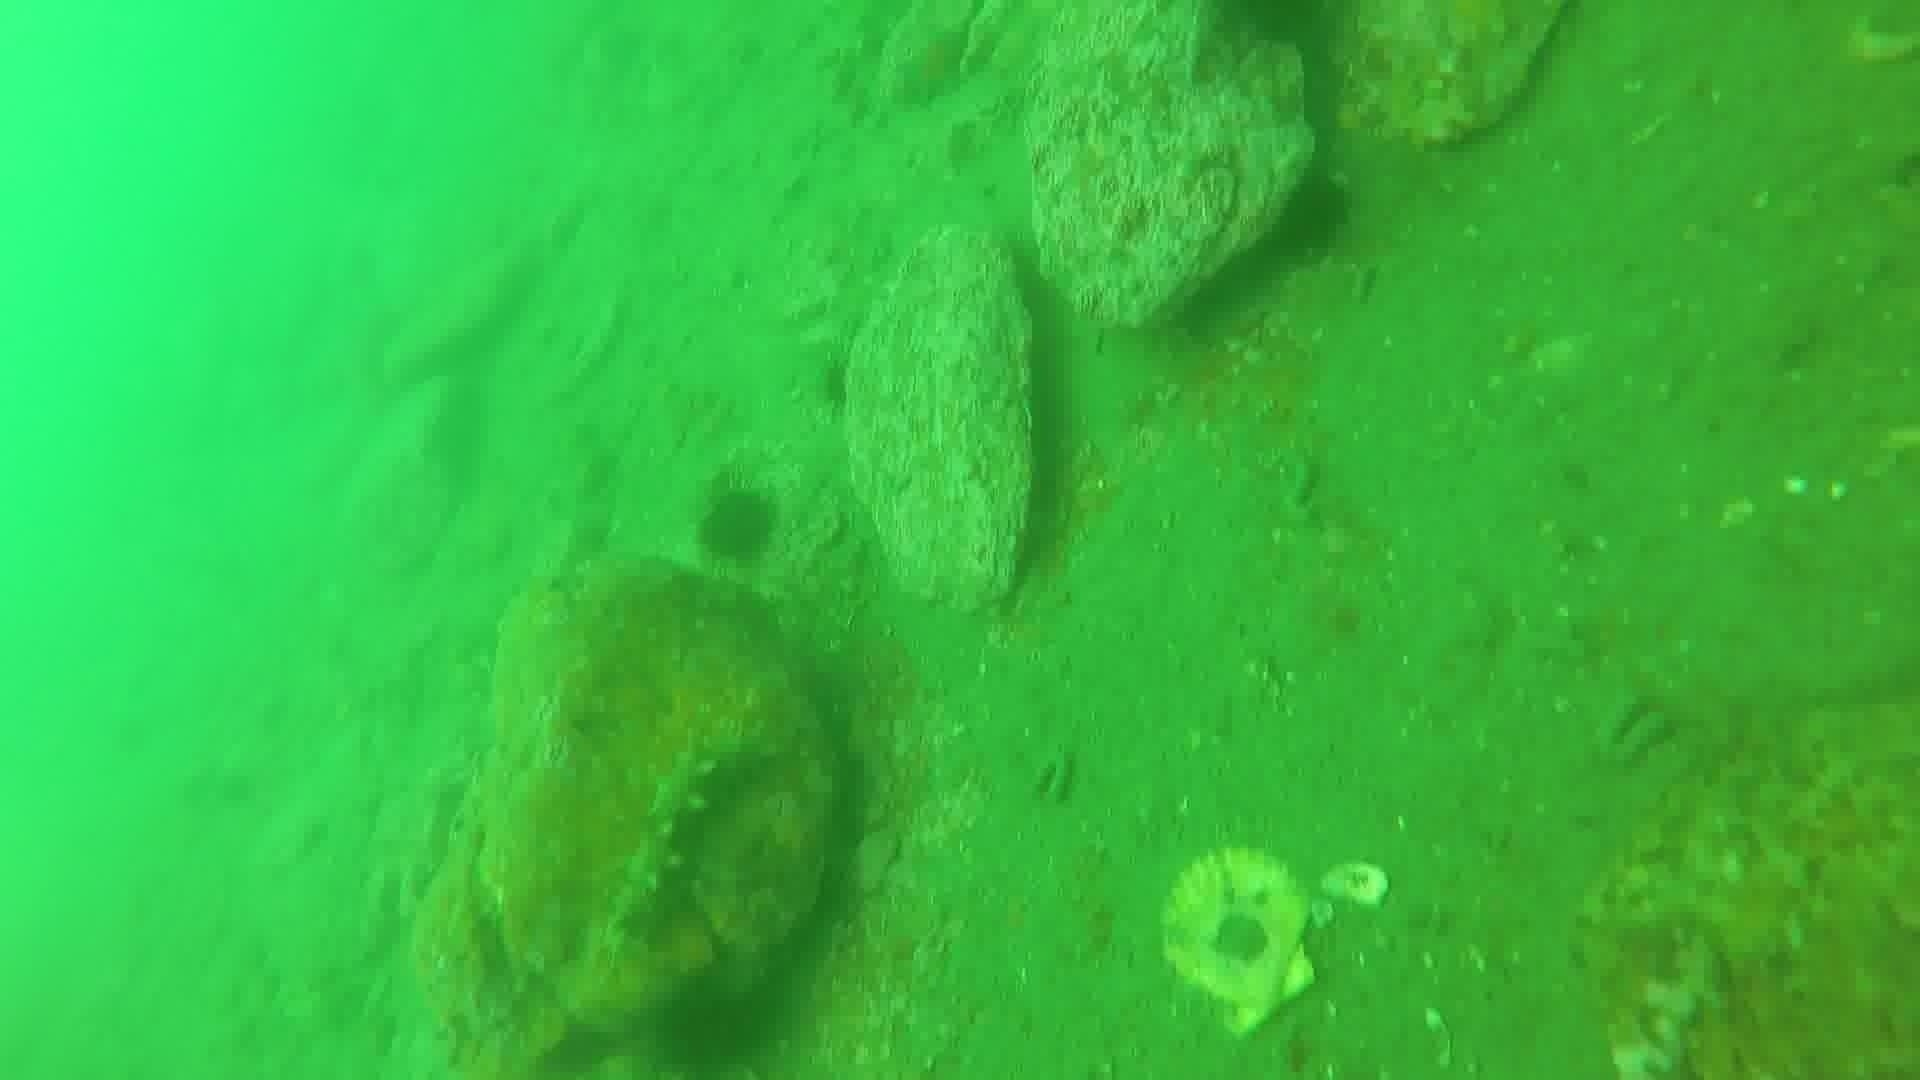echinus: (647, 965, 786, 1073), (1197, 3, 1361, 73), (1270, 167, 1360, 262), (691, 481, 785, 571)
scallop: (1154, 843, 1327, 1036)
